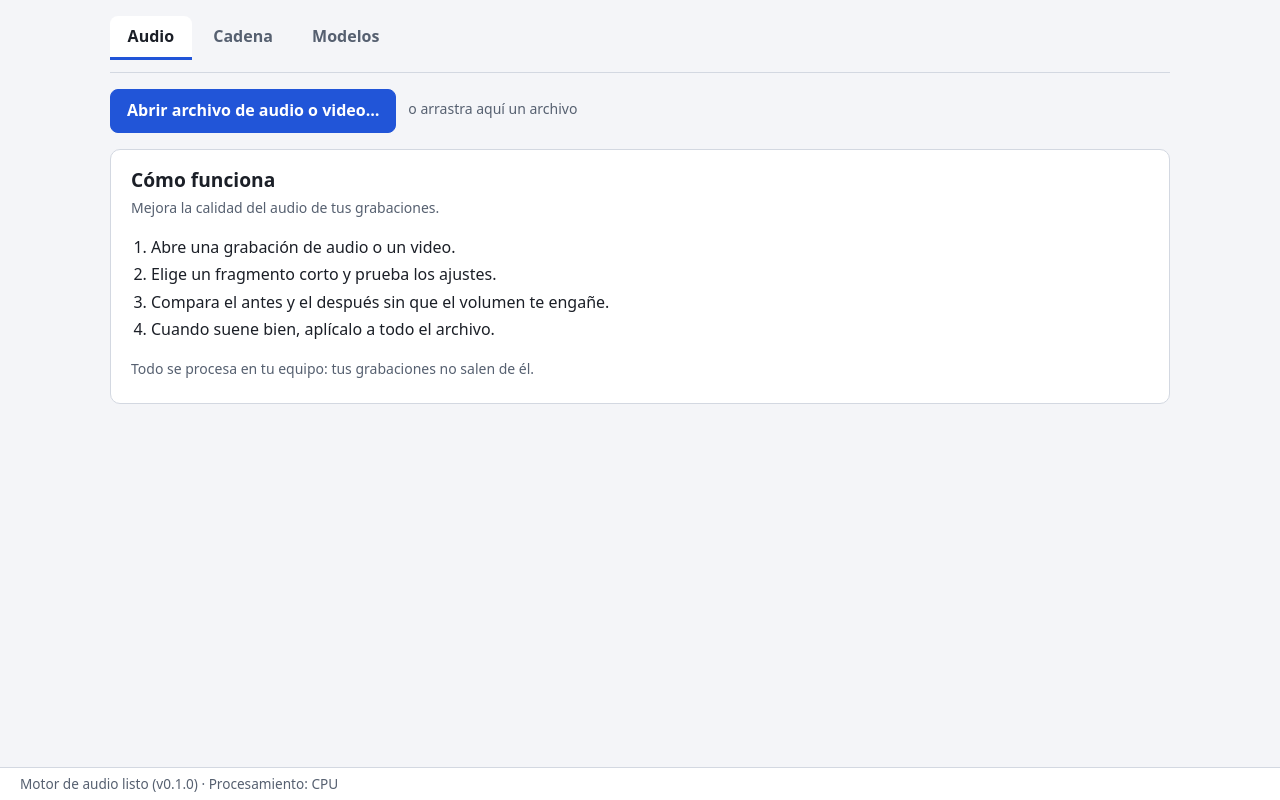
Test: App › abrir un archivo hace probe + forma de onda y propone un fragmento inicial de 10 s
The image size is (1280, 800).
Click the button "Abrir archivo de audio o video…" at point(253, 111), box x1=110 y1=89 x2=396 y2=133
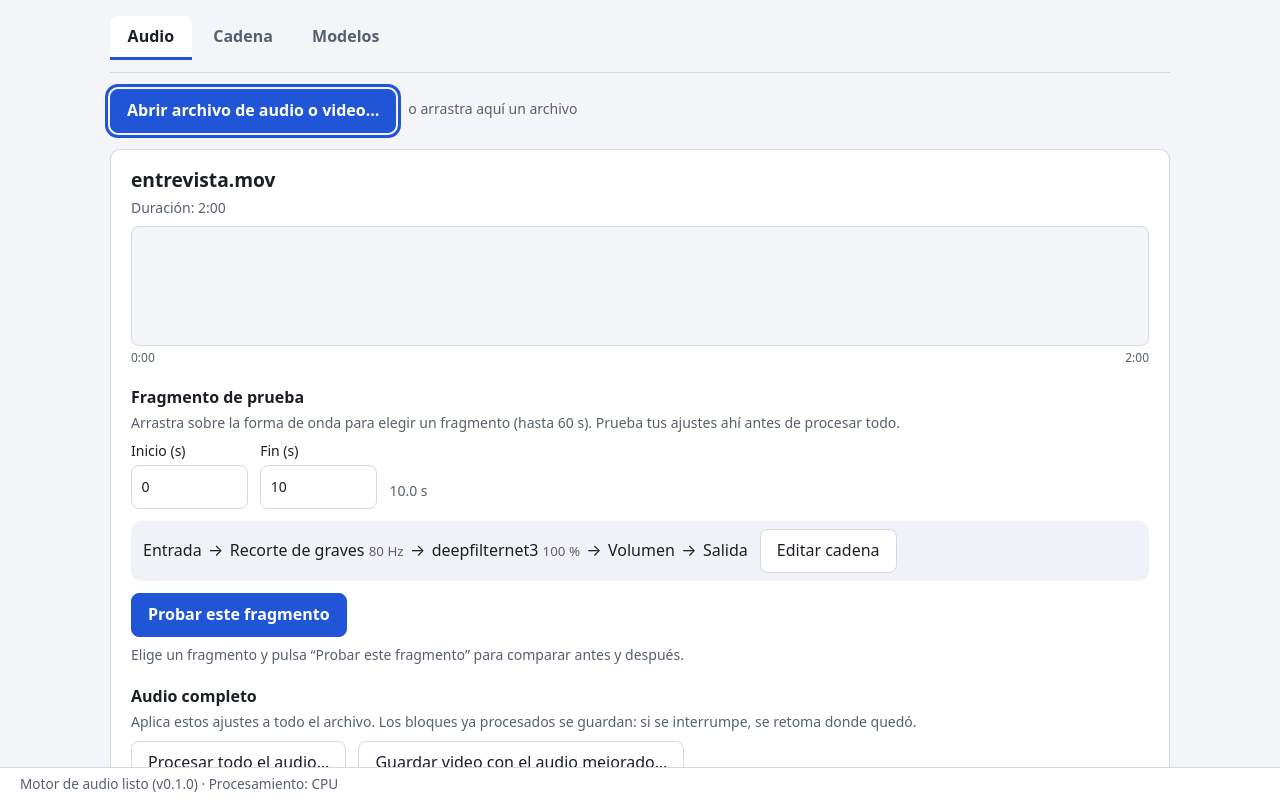
Check: the heading "entrevista.mov" is shown, box x1=131 y1=166 x2=276 y2=193
Check: the number field showing "10" is shown, box x1=260 y1=465 x2=377 y2=509
